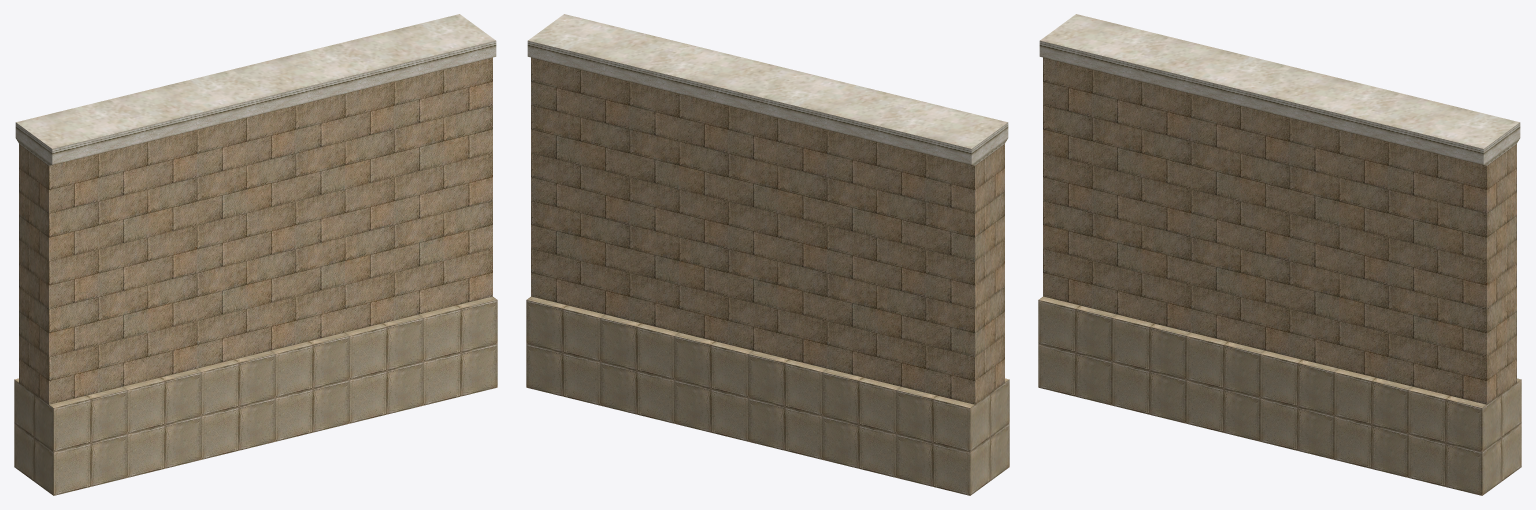
File: thm_nboo_imprv_pristine_wall_lg_s02_l0.fbx
3 views of the same model, side by side, from view 1: azimuth 30°, elevation 25°; view 2: azimuth 150°, elevation 25°; view 3: azimuth 330°, elevation 25° (orthographic).
Visible parts, largest first — view 1: mesh_node; view 2: mesh_node; view 3: mesh_node.
Part boxes in pixels (x1,y1,x2,y2): mesh_node: [14, 14, 497, 495]; mesh_node: [526, 14, 1009, 495]; mesh_node: [1038, 14, 1521, 495].
Size of the model in its own units: 9.48 by 7.06 by 1.45.
Materials: 1 (1 with a texture image).
